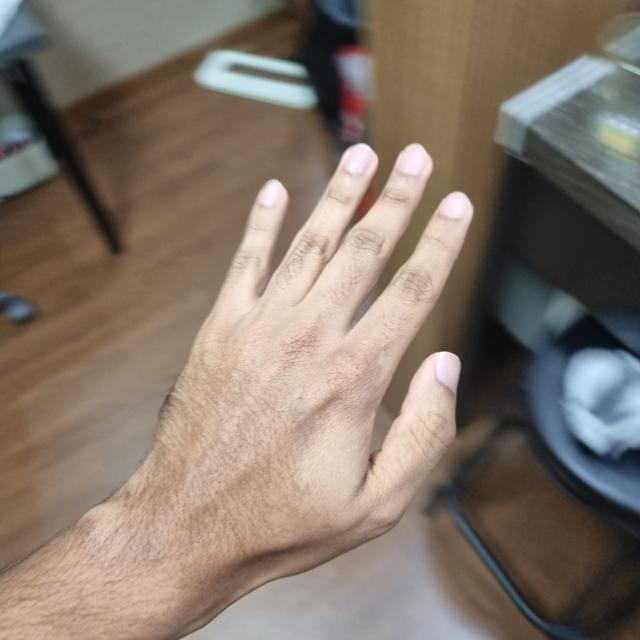Paper: (164, 158, 470, 563)
